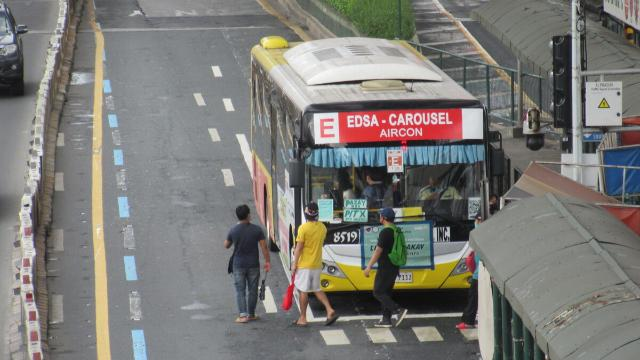bus: (248, 32, 504, 293)
